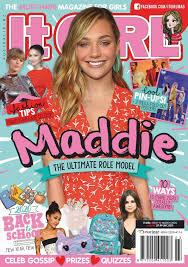paper: (2, 0, 188, 267)
